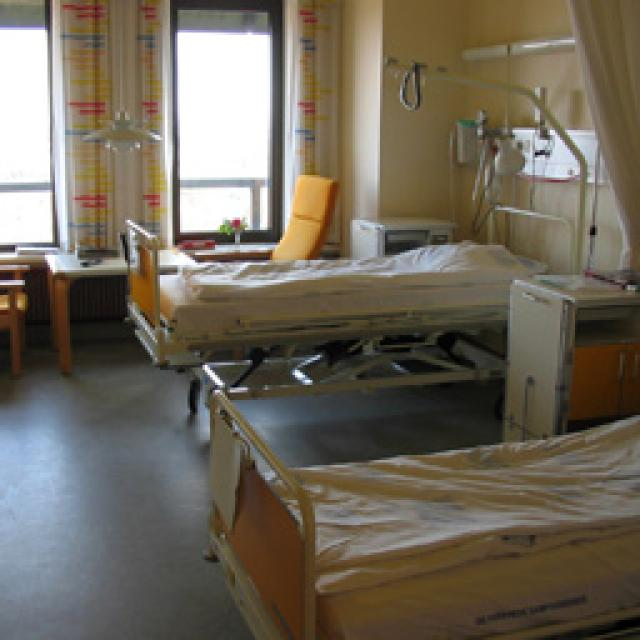2001: (170, 0, 282, 240)
bed -occluded-: (120, 200, 570, 415)
bed frame: (200, 388, 635, 638)
curtain crop: (53, 0, 170, 248), (565, 0, 635, 288), (280, 0, 338, 240)
floor -X: (2, 292, 638, 635)
wall clock: (460, 0, 638, 415), (0, 235, 335, 347), (375, 0, 467, 320), (335, 0, 380, 320)
